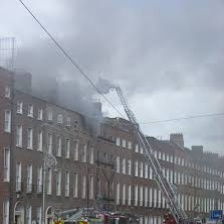smoke: (27, 28, 106, 113)
